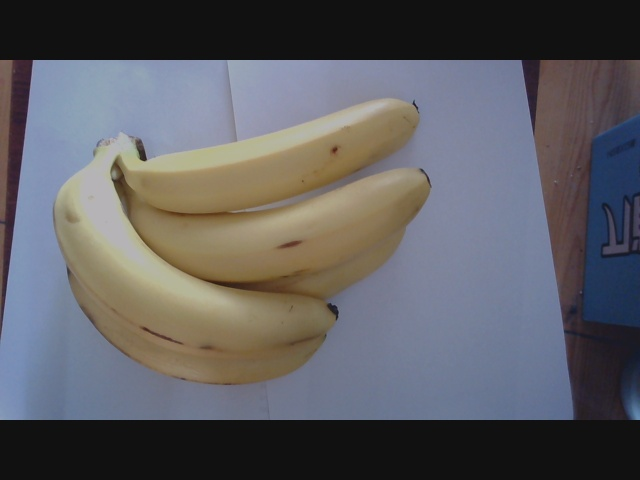banana: (55, 99, 443, 388)
